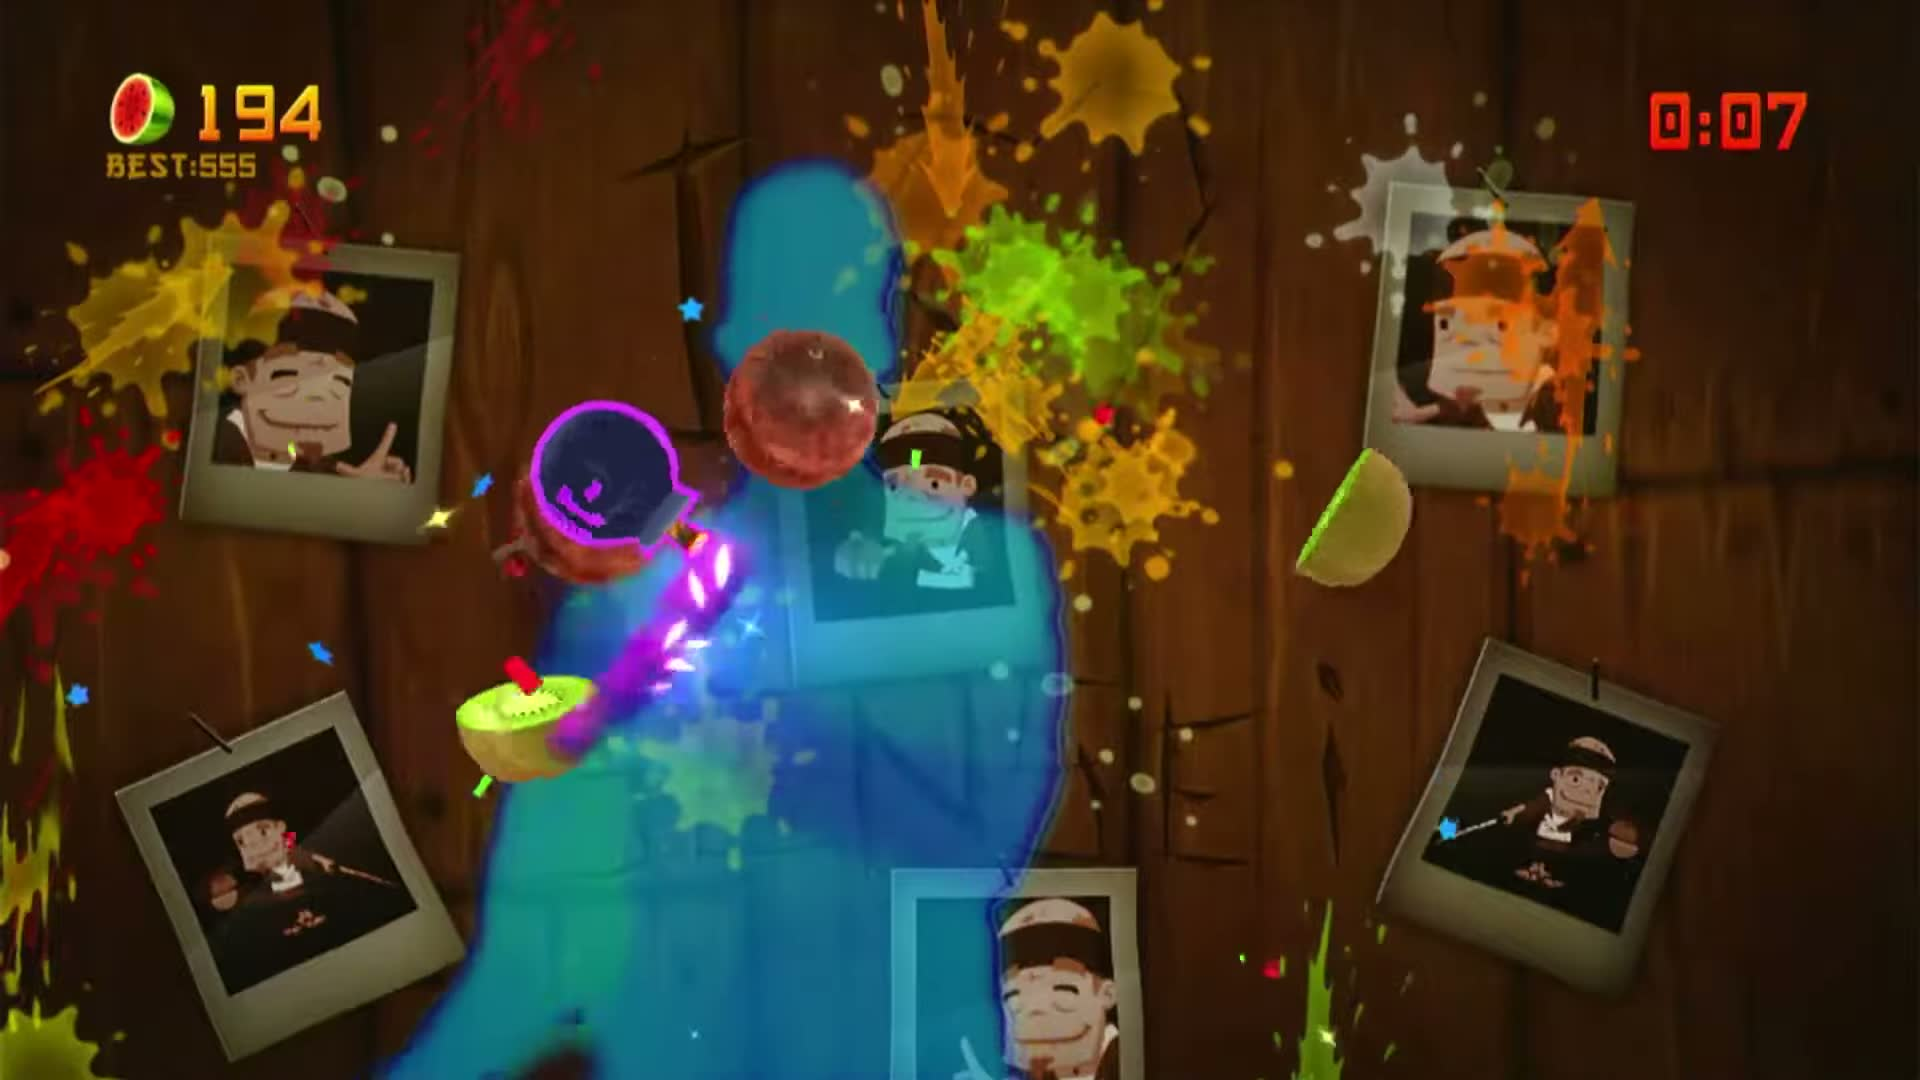blade_trail: (500, 520, 760, 810)
bomb: (488, 421, 662, 620)
fruit: (335, 700, 520, 865), (430, 468, 600, 628), (740, 388, 890, 558), (1290, 500, 1420, 680)
